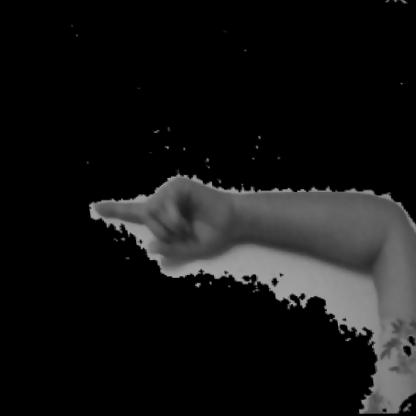one: (52, 110, 400, 353)
